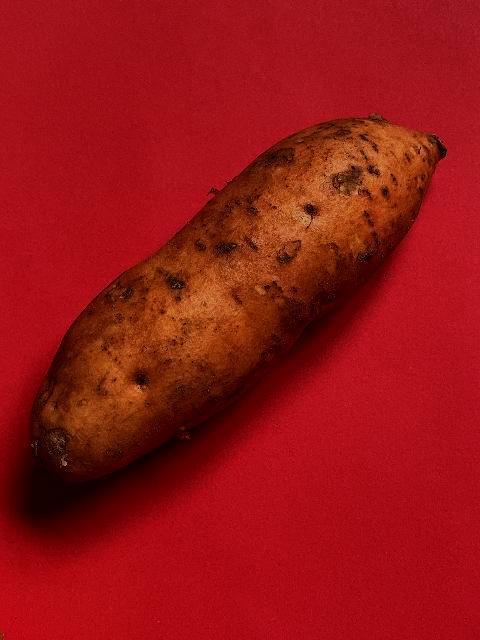sweetpotato: (27, 114, 448, 486)
